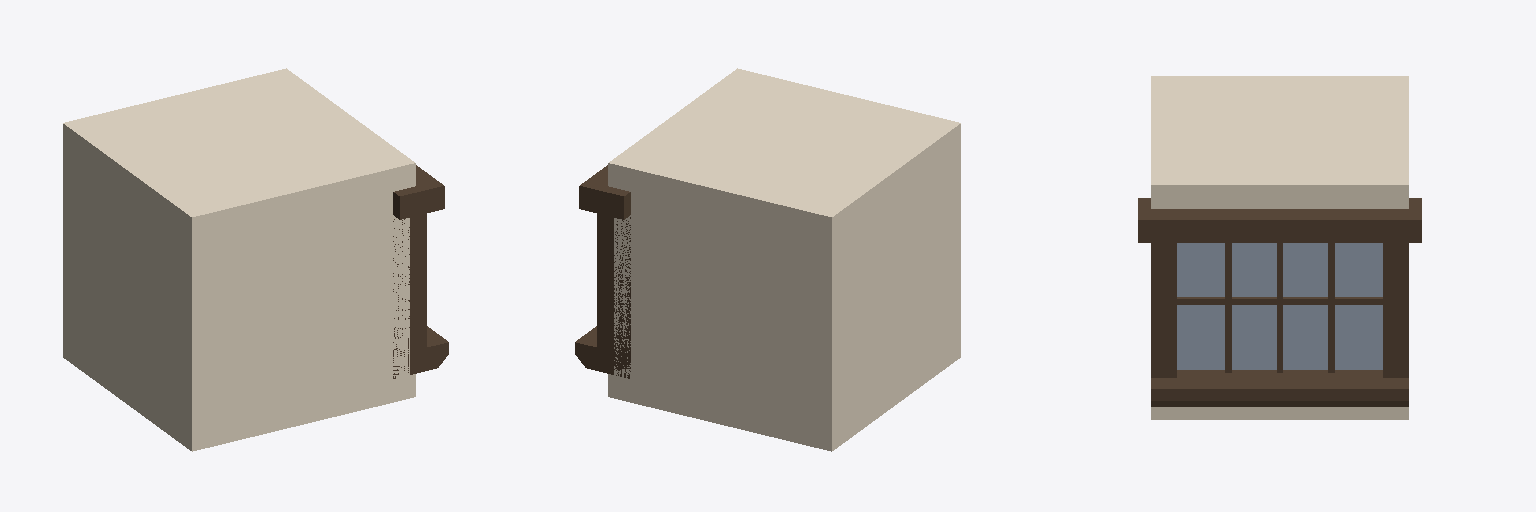
Rendered from Stucco_Window_Double_Narrow.obj.
3 views of the same model, side by side, from view 1: azimuth 30°, elevation 25°; view 2: azimuth 150°, elevation 25°; view 3: azimuth 270°, elevation 25° (orthographic).
Parts seen in each view (by area): view 1: object1, object2; view 2: object1, object2; view 3: object1, object2, object3.
Boxes of the visible parts, x1,y1,x2,y2 form: object1: [63, 68, 415, 451]; object2: [393, 165, 448, 378]; object1: [608, 68, 960, 451]; object2: [575, 165, 630, 378]; object1: [1151, 76, 1408, 419]; object2: [1138, 198, 1421, 406]; object3: [1177, 243, 1382, 372].
Bounding box in the file's own units: 1.15 × 1 × 1.1.